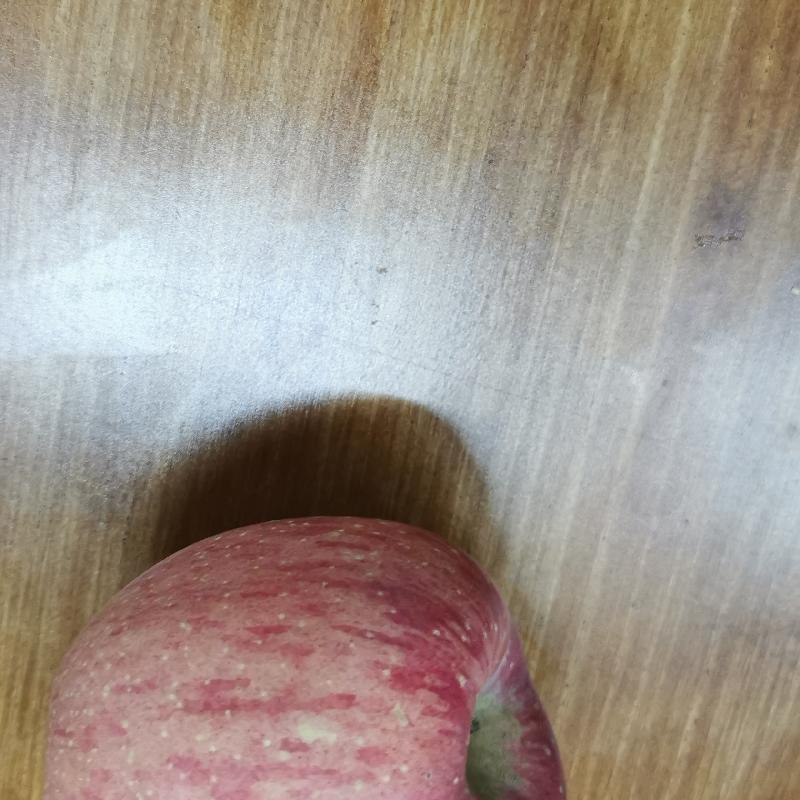apples: (42, 508, 572, 800)
